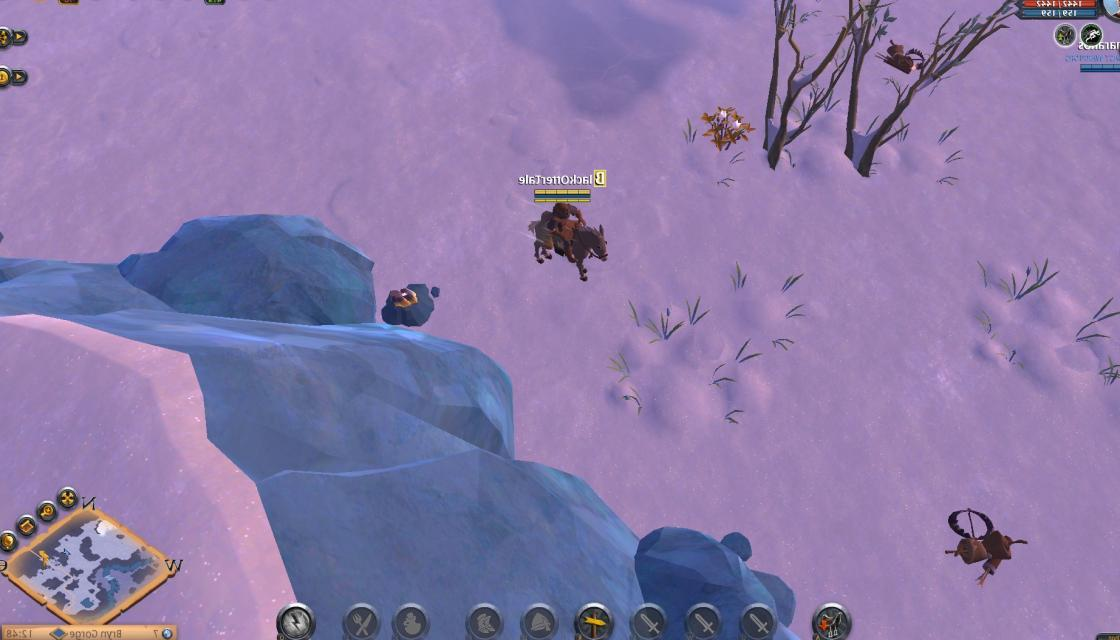copperore: (379, 281, 442, 325)
